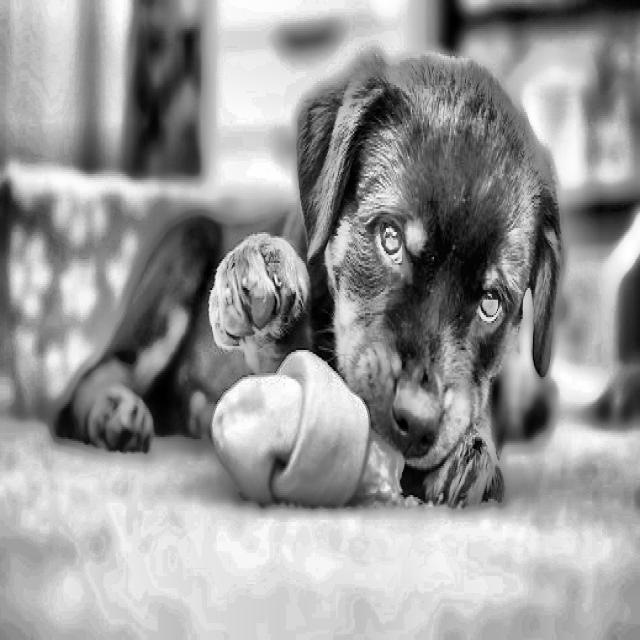rottweiler: (276, 24, 578, 505)
